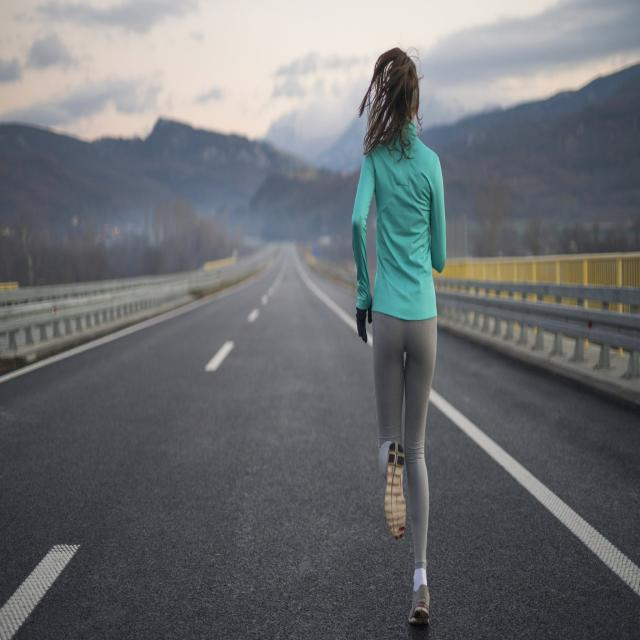Person: (352, 48, 447, 623)
